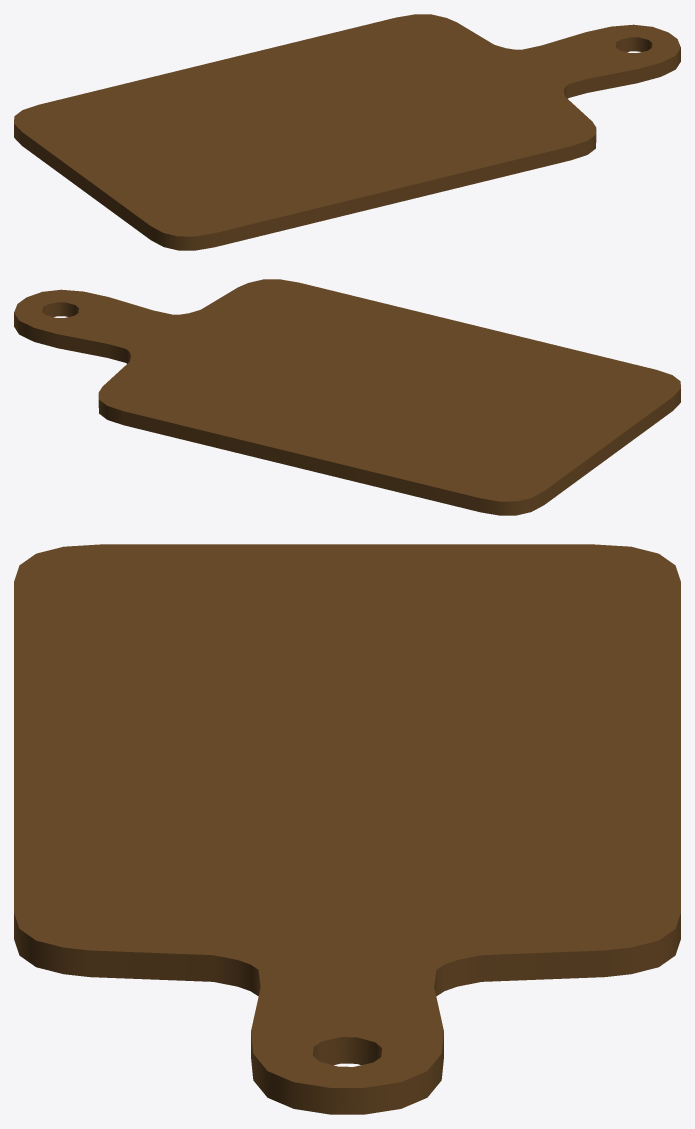
File: CuttingStation.fbx
3 views of the same model, one above another, from view 1: azimuth 30°, elevation 25°; view 2: azimuth 150°, elevation 25°; view 3: azimuth 270°, elevation 25° (orthographic). The views are drawn at different scales.
Visible parts, largest first — view 1: CuttingBoard; view 2: CuttingBoard; view 3: CuttingBoard.
Part boxes in pixels (<box>): CuttingBoard: <box>14,14,680,250</box>; CuttingBoard: <box>14,279,680,515</box>; CuttingBoard: <box>14,544,680,1114</box>.
Size of the model in its own units: 1.23 by 0.0281 by 0.6371.
